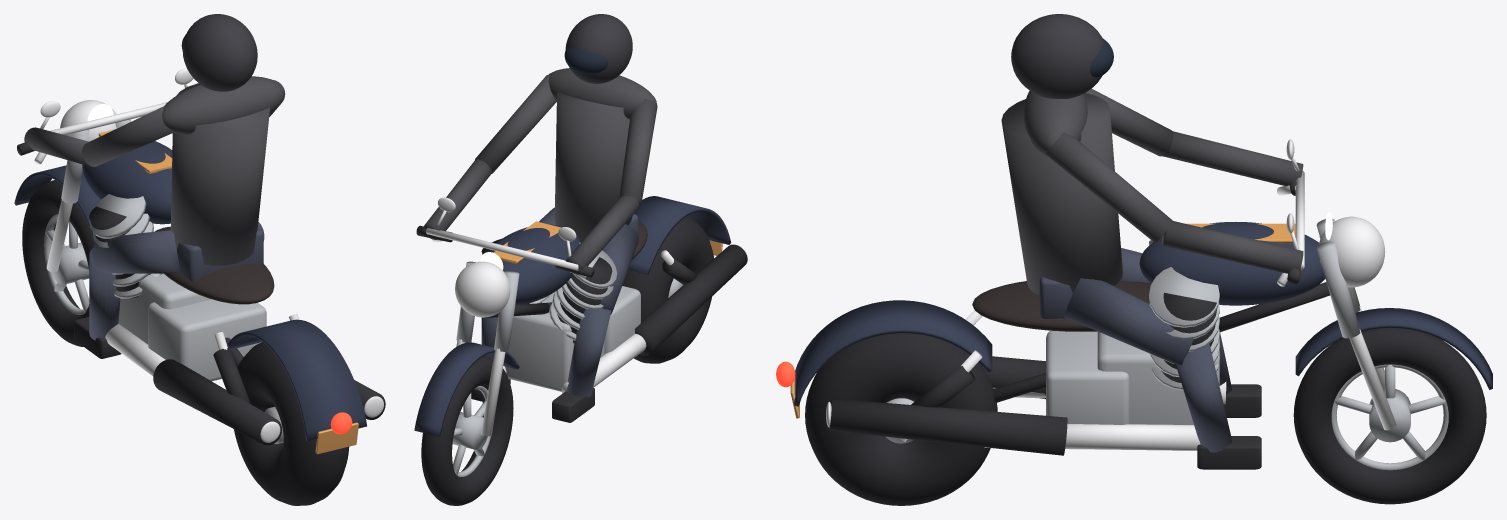
File: nightbreaker.glb
3 views of the same model, side by side, from view 1: azimuth 30°, elevation 25°; view 2: azimuth 150°, elevation 25°; view 3: azimuth 270°, elevation 25° (orthographic). The views are drawn at different scales.
Parts seen in each view (by area): view 1: rider_jacket, body_paint, body_alu, wheel_r_rubber, rider_pants, body_black, body_chrome, wheel_f_rubber, rider_helmet, body_seat, wheel_f_alu, body_accent (+1 smaller); view 2: rider_jacket, body_paint, body_alu, body_chrome, wheel_f_rubber, body_black, wheel_r_rubber, rider_pants, rider_helmet, wheel_f_alu, rider_black, rider_visor (+2 smaller); view 3: rider_jacket, wheel_r_rubber, body_paint, wheel_f_rubber, body_alu, body_black, rider_pants, body_chrome, rider_helmet, wheel_f_alu, body_seat, rider_black (+1 smaller).
Part boxes in pixels (bbox=[...]): rider_jacket: bbox=[24, 76, 285, 265]; body_paint: bbox=[14, 141, 366, 440]; body_alu: bbox=[61, 119, 266, 381]; wheel_r_rubber: bbox=[234, 342, 349, 505]; rider_pants: bbox=[89, 222, 264, 340]; body_black: bbox=[89, 206, 385, 445]; body_chrome: bbox=[34, 68, 383, 442]; wheel_f_rubber: bbox=[22, 180, 94, 346]; rider_helmet: bbox=[182, 14, 257, 91]; body_seat: bbox=[155, 226, 274, 304]; wheel_f_alu: bbox=[44, 213, 89, 314]; body_accent: bbox=[98, 129, 358, 454]; rider_jacket: bbox=[423, 68, 657, 274]; body_paint: bbox=[414, 196, 730, 436]; body_alu: bbox=[456, 242, 640, 391]; body_chrome: bbox=[426, 197, 673, 436]; wheel_f_rubber: bbox=[421, 356, 513, 505]; body_black: bbox=[481, 238, 747, 355]; wheel_r_rubber: bbox=[622, 216, 713, 363]; rider_pants: bbox=[481, 207, 638, 396]; rider_helmet: bbox=[565, 14, 632, 83]; wheel_f_alu: bbox=[452, 386, 490, 476]; rider_black: bbox=[471, 379, 594, 422]; rider_visor: bbox=[564, 47, 608, 74]; rider_jacket: bbox=[1001, 88, 1303, 294]; wheel_r_rubber: bbox=[805, 333, 997, 505]; body_paint: bbox=[794, 222, 1492, 406]; wheel_f_rubber: bbox=[1293, 328, 1486, 504]; body_alu: bbox=[1046, 218, 1360, 424]; body_black: bbox=[829, 282, 1329, 455]; rider_pants: bbox=[1039, 248, 1231, 452]; body_chrome: bbox=[826, 139, 1396, 450]; rider_helmet: bbox=[1011, 14, 1103, 98]; wheel_f_alu: bbox=[1331, 364, 1448, 470]; body_seat: bbox=[972, 281, 1151, 331]; rider_black: bbox=[1197, 384, 1261, 469].
Bounding box in the file's own units: 0.7837 × 1.66 × 2.23.
